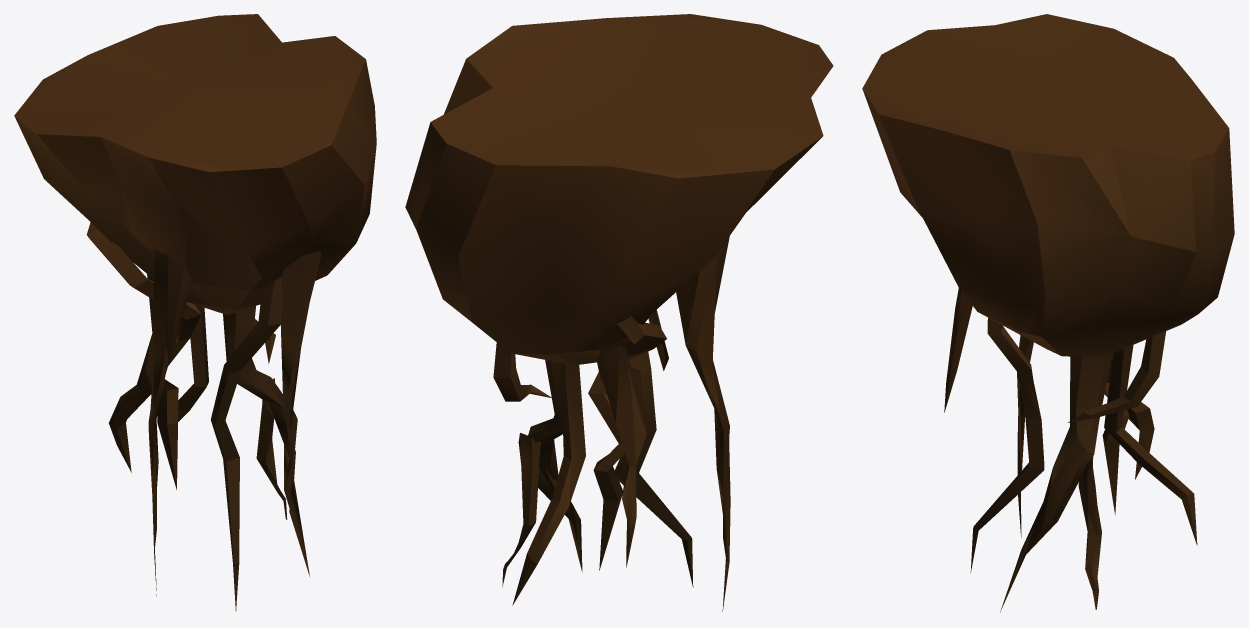
File: Gen_PlantRoots_01.fbx
The picture shows the model from 3 angles, left to right: view 1: azimuth 30°, elevation 25°; view 2: azimuth 150°, elevation 25°; view 3: azimuth 270°, elevation 25°; orthographic projection. The views are drawn at different scales.
Visible parts, largest first — view 1: Gen_PlantRoots_01; view 2: Gen_PlantRoots_01; view 3: Gen_PlantRoots_01.
Part boxes in pixels (bbox=[...]): Gen_PlantRoots_01: bbox=[14, 14, 376, 610]; Gen_PlantRoots_01: bbox=[405, 14, 833, 611]; Gen_PlantRoots_01: bbox=[862, 14, 1234, 612].
Bounding box in the file's own units: 0.3953 × 0.5708 × 0.3884.
